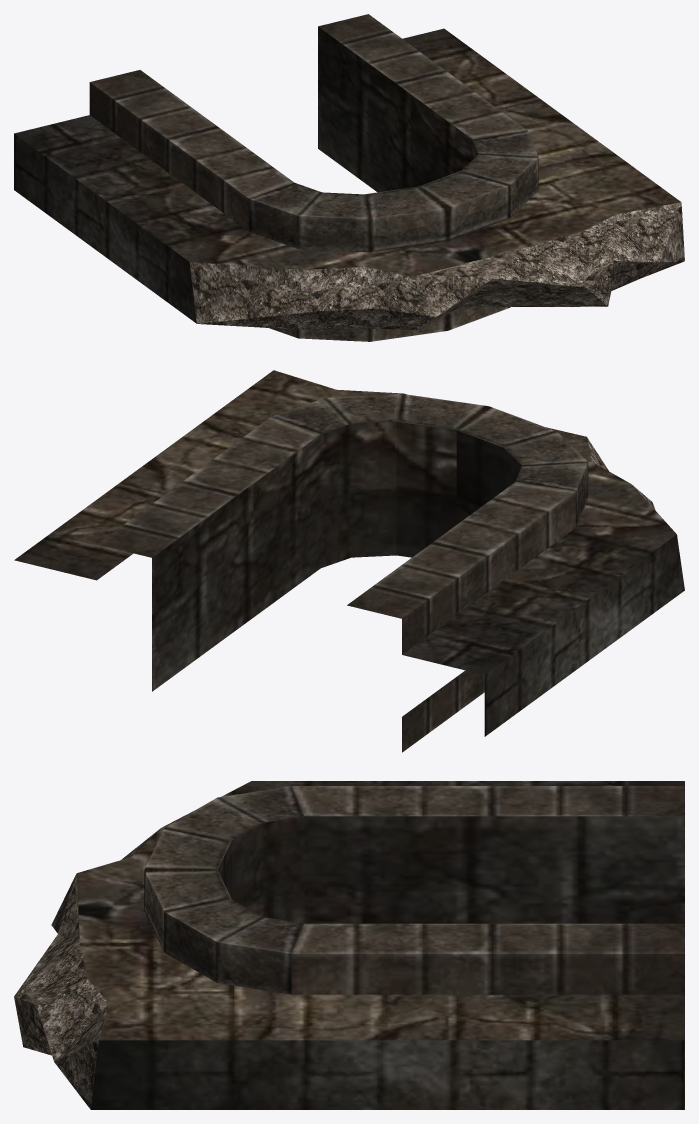
3 renders of one model, top to bottom at view 1: azimuth 30°, elevation 25°; view 2: azimuth 150°, elevation 25°; view 3: azimuth 270°, elevation 25°, orthographic. The views are drawn at different scales.
Visible parts, largest first — view 1: model_Object44; view 2: model_Object44; view 3: model_Object44.
Boxes of the visible parts, <box> form: model_Object44: <box>14,14,684,341</box>; model_Object44: <box>14,370,684,752</box>; model_Object44: <box>14,781,684,1109</box>.
Size of the model in its own units: 3.24 by 0.8796 by 3.54.
Materials: 2 (2 with a texture image).
